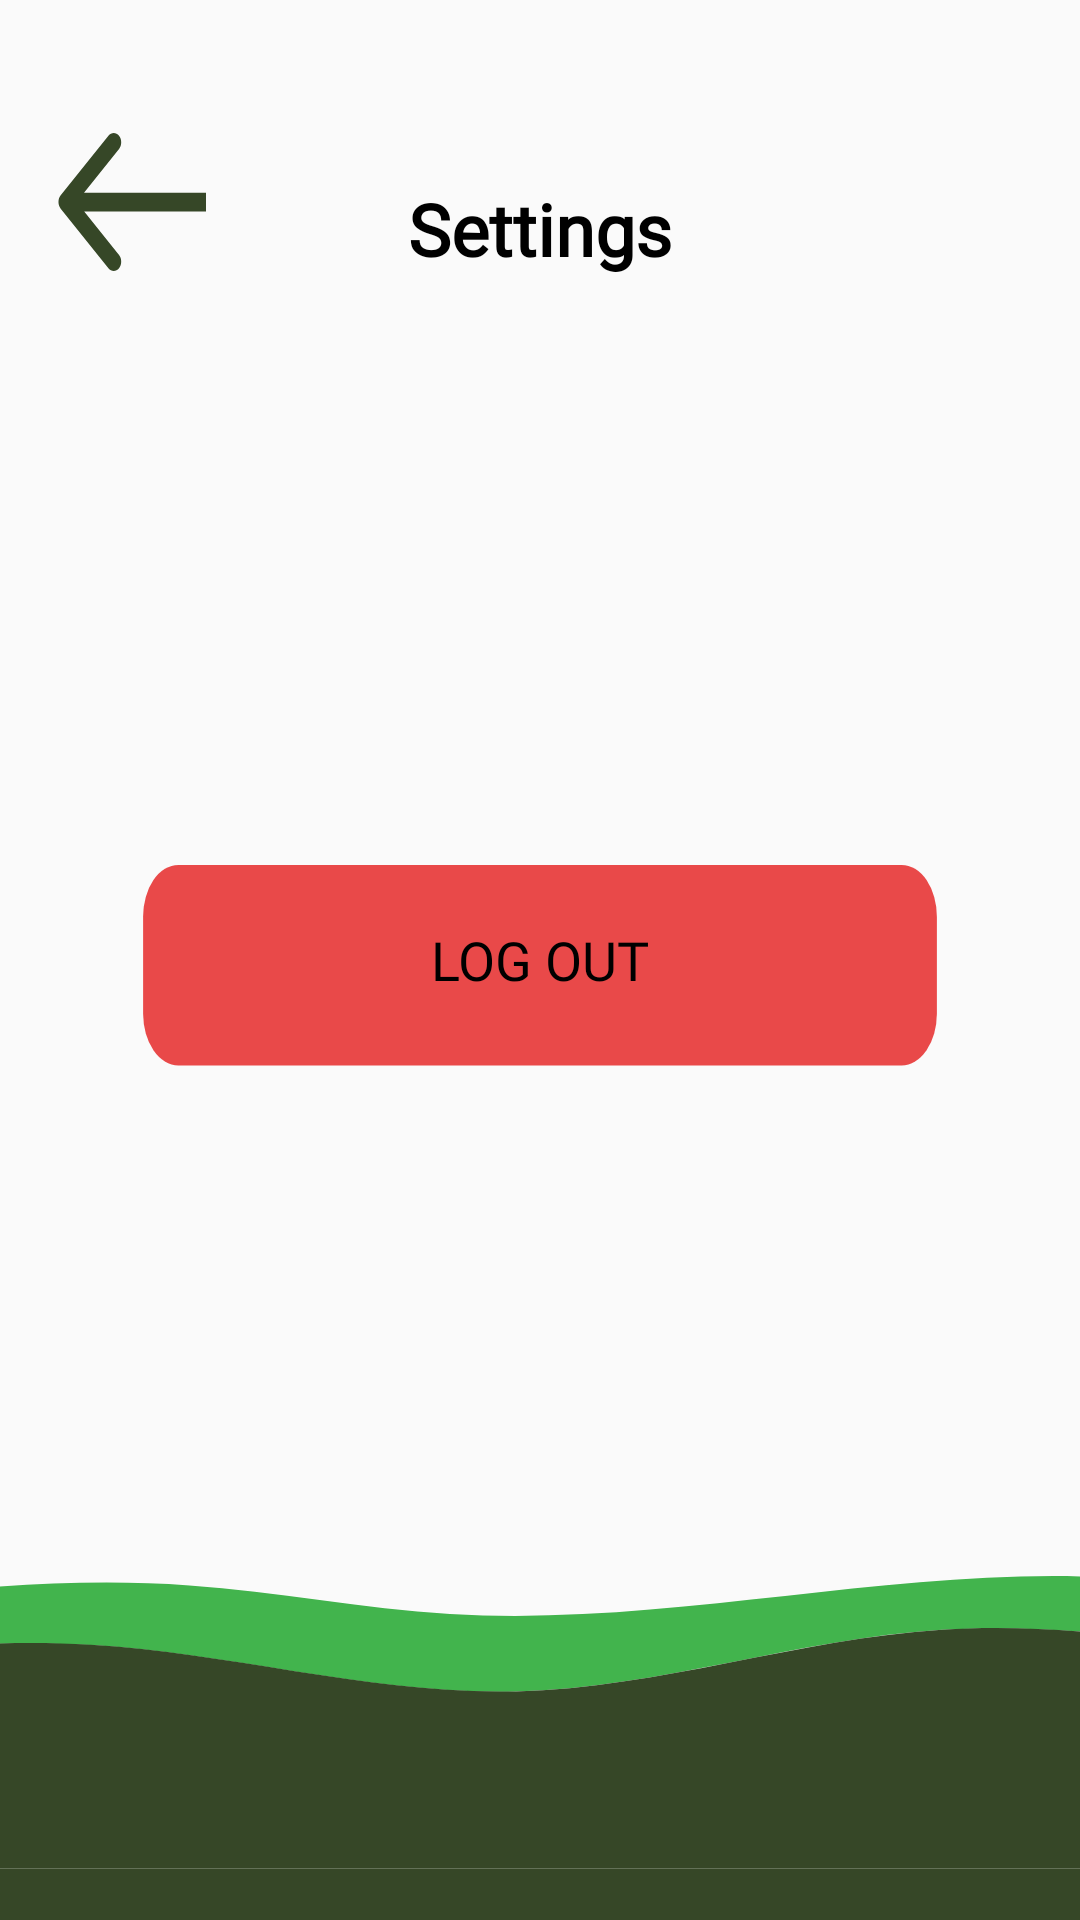

Screen size 1080*1920. Icon name, then its box in pixels as (x1, y1, x2, y2):
arrow main: (58, 133, 206, 271)
